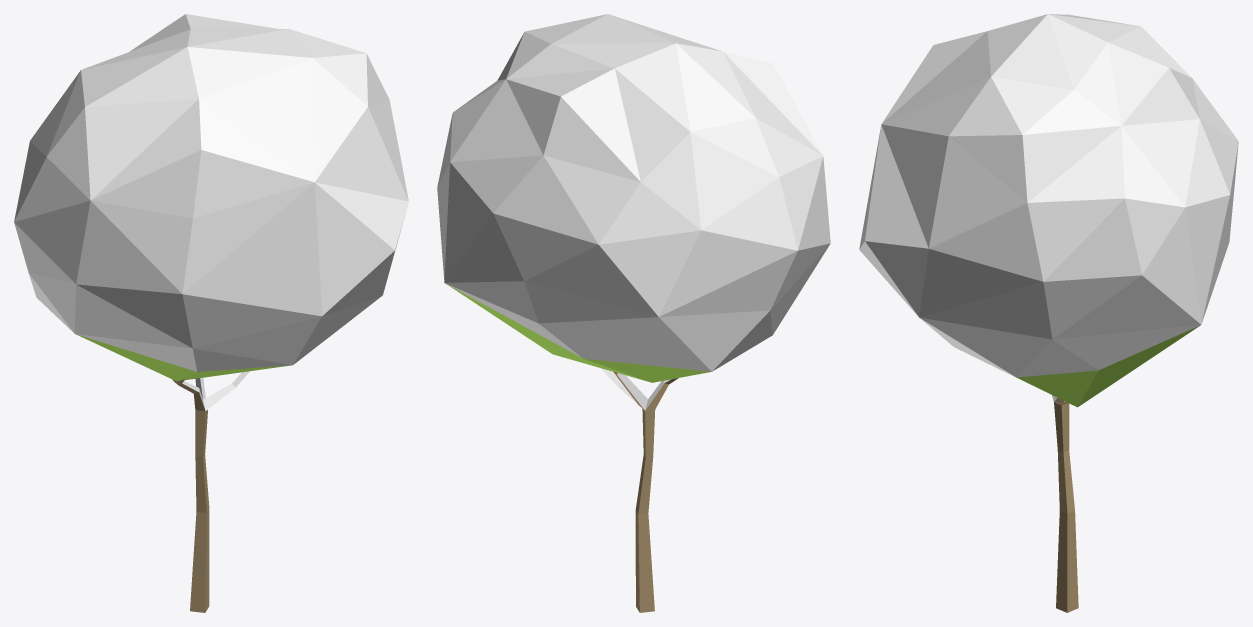
The model's file is Apple_Tree_s_Snow_02.fbx.
3 renders of one model, left to right at view 1: azimuth 30°, elevation 25°; view 2: azimuth 150°, elevation 25°; view 3: azimuth 270°, elevation 25°, orthographic. The views are drawn at different scales.
Visible parts, largest first — view 1: Apple_Tree_s_Snow_02; view 2: Apple_Tree_s_Snow_02; view 3: Apple_Tree_s_Snow_02.
Boxes of the visible parts, x1=… form: Apple_Tree_s_Snow_02: x1=14, y1=14, x2=408, y2=612; Apple_Tree_s_Snow_02: x1=437, y1=14, x2=830, y2=612; Apple_Tree_s_Snow_02: x1=859, y1=14, x2=1238, y2=612.
Bounding box in the file's own units: 223 × 340 × 201.
